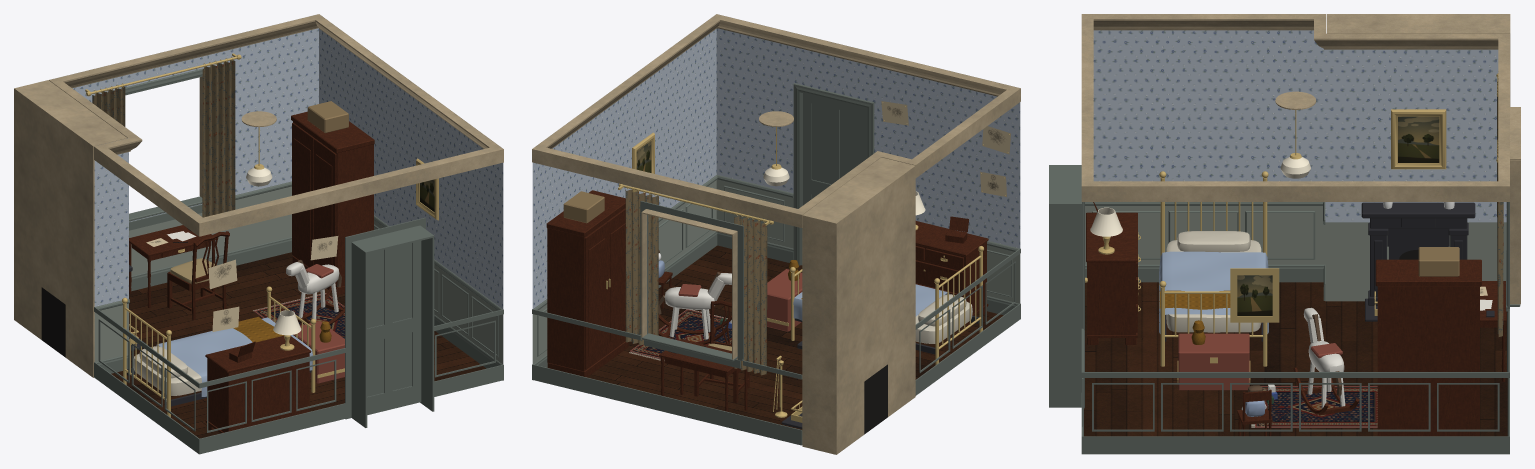
File: room_child_room.gltf
3 views of the same model, side by side, from view 1: azimuth 30°, elevation 25°; view 2: azimuth 150°, elevation 25°; view 3: azimuth 270°, elevation 25° (orthographic). The views are drawn at different scales.
Parts seen in each view (by area): view 1: 艾瑞斯的房间·墙面、地面与线脚, 艾瑞斯的房间·烟囱墙-col, 艾瑞斯的房间·衣柜-col, 艾瑞斯的房间·门, 艾瑞斯的房间·五斗柜-col, 艾瑞斯的房间·铜床-col, 艾瑞斯的房间·书桌椅-col, 艾瑞斯的房间·木马, 艾瑞斯的房间·窗下书桌-col, 艾瑞斯的房间·床尾箱-col, 艾瑞斯的房间·地毯, 艾瑞斯的房间·东墙小画 (+5 smaller); view 2: 艾瑞斯的房间·墙面、地面与线脚, 艾瑞斯的房间·烟囱墙-col, 艾瑞斯的房间·衣柜-col, 艾瑞斯的房间·门, 艾瑞斯的房间·铜床-col, 艾瑞斯的房间·五斗柜-col, 艾瑞斯的房间·木马, 艾瑞斯的房间·窗下书桌-col, 艾瑞斯的房间·床尾箱-col, 艾瑞斯的房间·地毯, 艾瑞斯的房间·书桌椅-col, 艾瑞斯的房间·铸铁壁炉-col (+5 smaller); view 3: 艾瑞斯的房间·墙面、地面与线脚, 艾瑞斯的房间·衣柜-col, 艾瑞斯的房间·铜床-col, 艾瑞斯的房间·五斗柜-col, 艾瑞斯的房间·铸铁壁炉-col, 艾瑞斯的房间·烟囱墙-col, 艾瑞斯的房间·地毯, 艾瑞斯的房间·床尾箱-col, 艾瑞斯的房间·壁炉上的小画, 艾瑞斯的房间·东墙小画, 艾瑞斯的房间·木马, 艾瑞斯的房间·娃娃与小椅子 (+3 smaller).
Boxes of the visible parts, box(x1,y1,x2,y2) form: 艾瑞斯的房间·墙面、地面与线脚: box(49, 14, 503, 454); 艾瑞斯的房间·烟囱墙-col: box(14, 80, 127, 377); 艾瑞斯的房间·衣柜-col: box(291, 101, 374, 295); 艾瑞斯的房间·门: box(367, 241, 421, 414); 艾瑞斯的房间·五斗柜-col: box(205, 335, 311, 433); 艾瑞斯的房间·铜床-col: box(122, 286, 316, 417); 艾瑞斯的房间·书桌椅-col: box(167, 231, 229, 319); 艾瑞斯的房间·木马: box(281, 260, 344, 324); 艾瑞斯的房间·窗下书桌-col: box(129, 225, 216, 307); 艾瑞斯的房间·床尾箱-col: box(293, 321, 344, 383); 艾瑞斯的房间·地毯: box(253, 293, 344, 338); 艾瑞斯的房间·东墙小画: box(416, 158, 438, 220); 艾瑞斯的房间·墙面、地面与线脚: box(532, 14, 1020, 445); 艾瑞斯的房间·烟囱墙-col: box(802, 157, 915, 454); 艾瑞斯的房间·衣柜-col: box(546, 190, 628, 377); 艾瑞斯的房间·门: box(802, 93, 866, 205); 艾瑞斯的房间·铜床-col: box(790, 246, 983, 365); 艾瑞斯的房间·五斗柜-col: box(915, 221, 988, 327); 艾瑞斯的房间·木马: box(658, 272, 731, 344); 艾瑞斯的房间·窗下书桌-col: box(659, 339, 747, 411); 艾瑞斯的房间·床尾箱-col: box(767, 269, 802, 331); 艾瑞斯的房间·地毯: box(629, 309, 731, 360); 艾瑞斯的房间·书桌椅-col: box(694, 300, 749, 403); 艾瑞斯的房间·铸铁壁炉-col: box(773, 341, 802, 428); 艾瑞斯的房间·墙面、地面与线脚: box(1049, 14, 1520, 454); 艾瑞斯的房间·衣柜-col: box(1375, 247, 1481, 436); 艾瑞斯的房间·铜床-col: box(1159, 171, 1268, 366); 艾瑞斯的房间·五斗柜-col: box(1086, 212, 1140, 344); 艾瑞斯的房间·铸铁壁炉-col: box(1361, 202, 1475, 321); 艾瑞斯的房间·烟囱墙-col: box(1326, 14, 1510, 259); 艾瑞斯的房间·地毯: box(1251, 386, 1377, 427); 艾瑞斯的房间·床尾箱-col: box(1177, 333, 1250, 390); 艾瑞斯的房间·壁炉上的小画: box(1391, 109, 1446, 169); 艾瑞斯的房间·东墙小画: box(1230, 268, 1279, 322); 艾瑞斯的房间·木马: box(1293, 307, 1359, 415); 艾瑞斯的房间·娃娃与小椅子: box(1237, 385, 1272, 436).
Bounding box in the file's own units: 3.99 × 2.9 × 4.61.
Materials: 36 (13 with a texture image).
